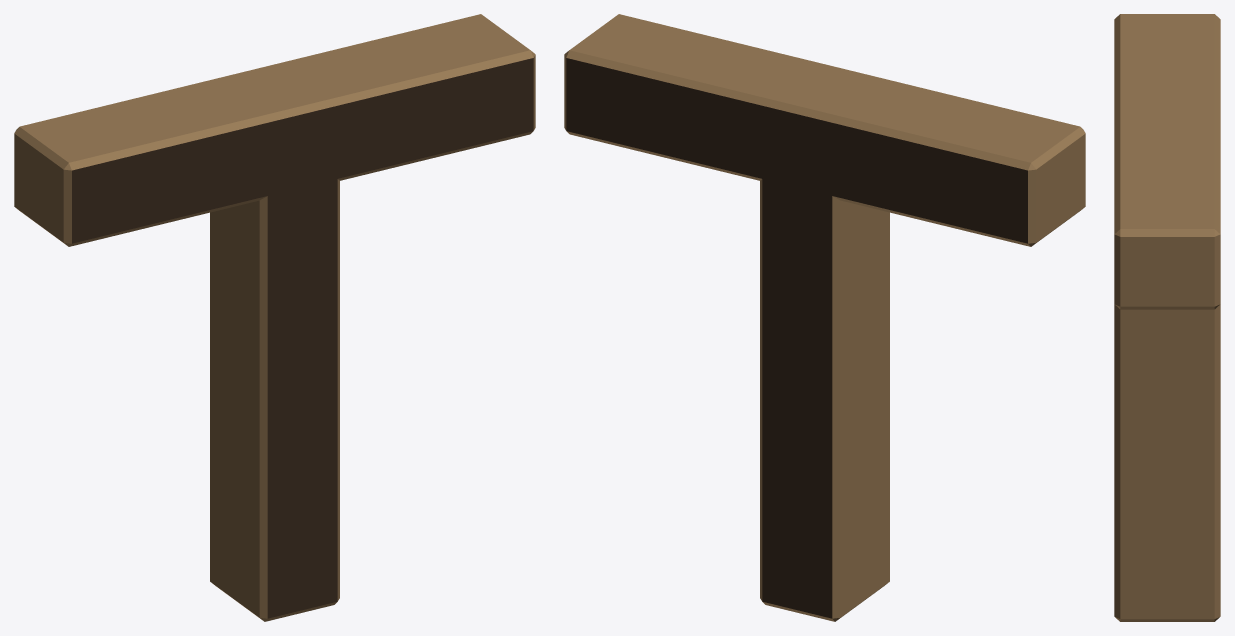
The picture shows the model from 3 angles, left to right: view 1: azimuth 30°, elevation 25°; view 2: azimuth 150°, elevation 25°; view 3: azimuth 270°, elevation 25°; orthographic projection. The views are drawn at different scales.
Parts seen in each view (by area): view 1: Glyph; view 2: Glyph; view 3: Glyph.
Part boxes in pixels (bbox=[...]): Glyph: bbox=[14, 14, 535, 621]; Glyph: bbox=[564, 14, 1085, 621]; Glyph: bbox=[1114, 14, 1220, 621].
Bounding box in the file's own units: 0.54 × 0.554 × 0.11.
